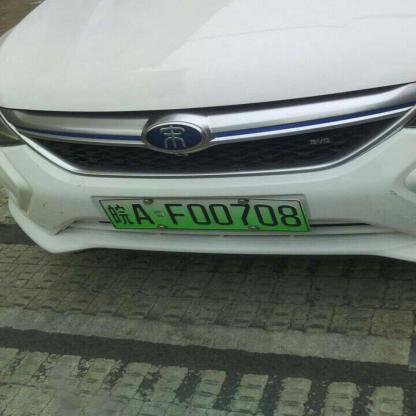lp: (100, 198, 309, 229)
